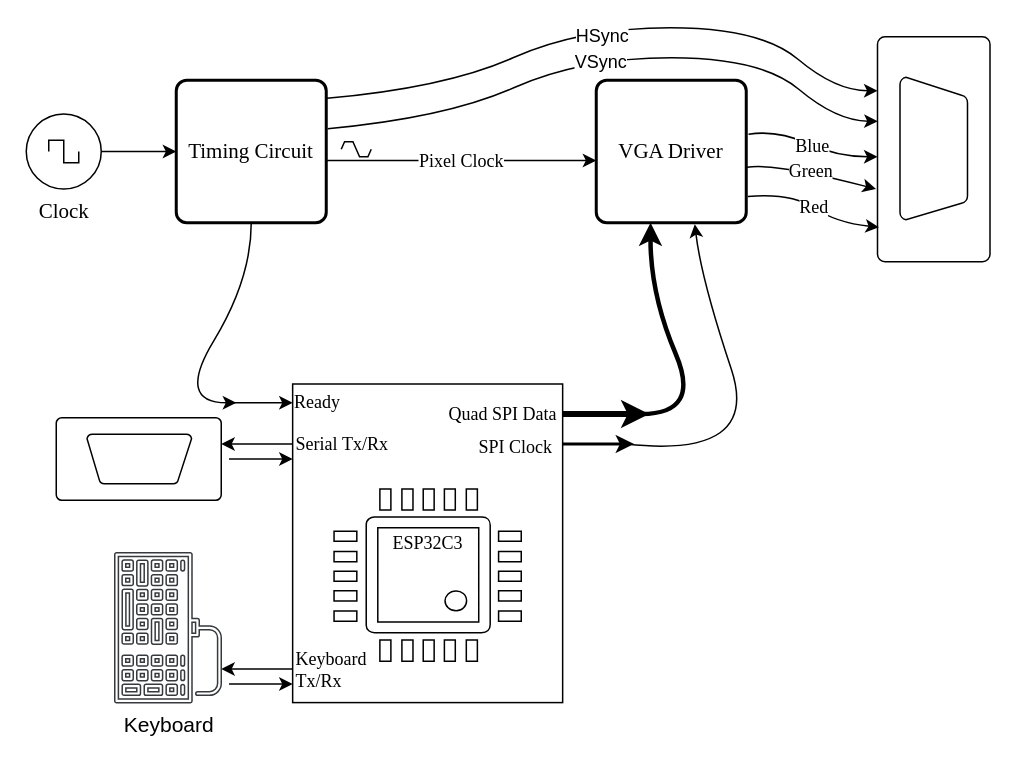
Image size: 1032x765. Some labels were removed from this diagram. The centre of each missing label's shape, as x and y in pixels:
Serial Connection: point 138,458
To VGA Monitor: point 933,148
